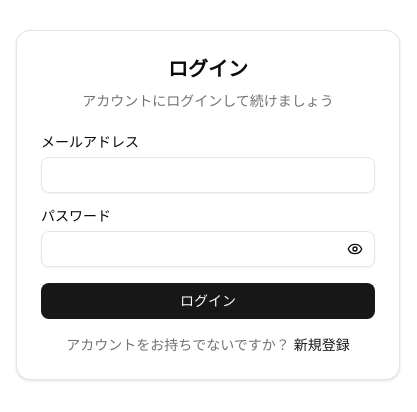
Test: LoginPage › メールアドレスの形式が不正な場合にエラーを表示する
Expected: the heading "ログイン" is shown, [168, 58, 248, 80]
Type "not-an-email" into the field labelled "メールアドレス". click: (208, 175)
box: [41, 157, 375, 193]
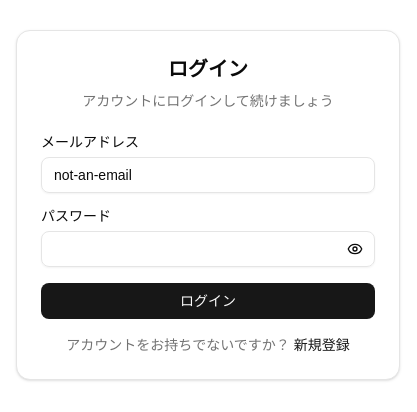
Type "demo1234" into the password field labelled "パスワード". click: (208, 249)
box: [41, 231, 375, 267]
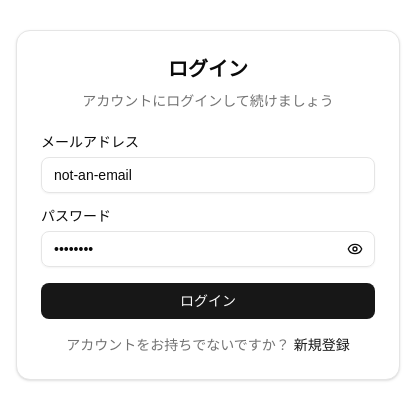
Click the button "ログイン". click: click(208, 301)
box: [41, 283, 375, 319]
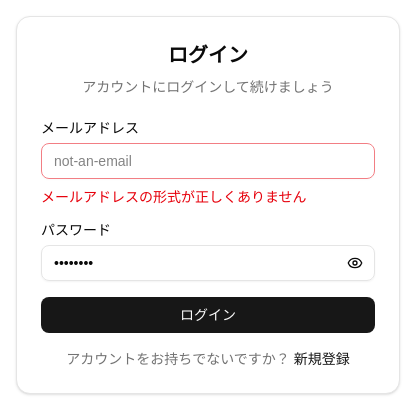
Expected: the text "メールアドレスの形式が正しくありません" is shown, [41, 189, 307, 205]
